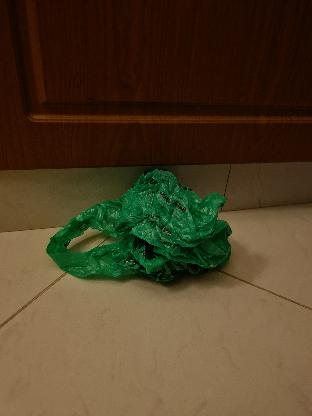Plastic Bag: (38, 166, 238, 288)
